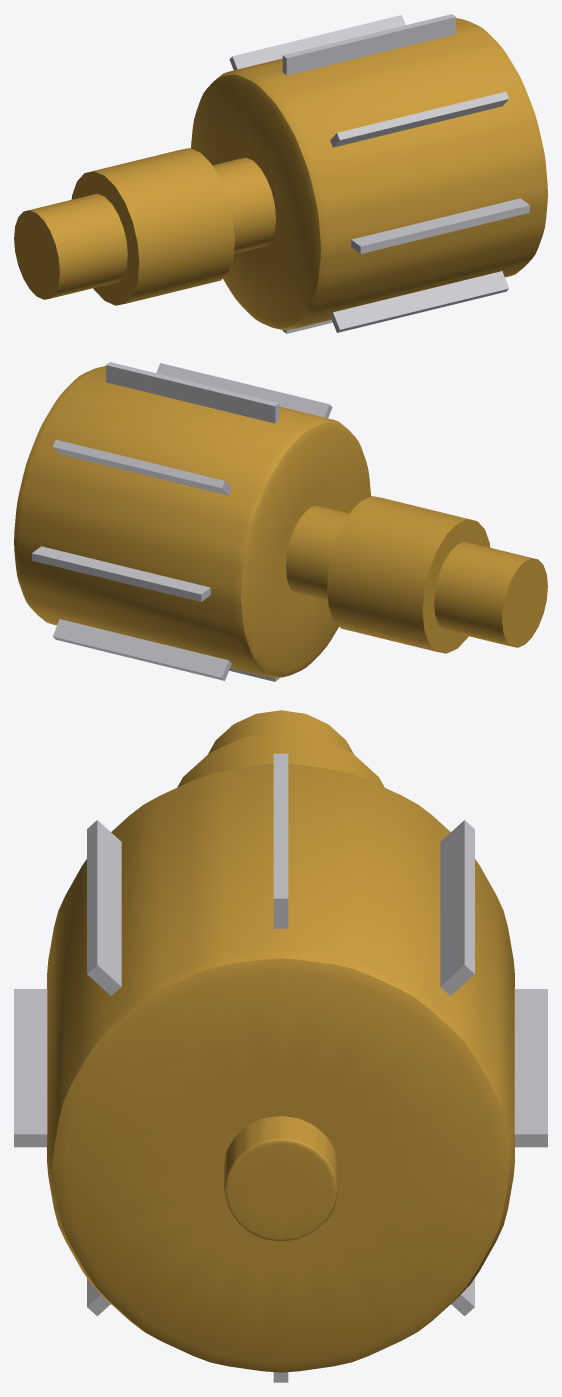
The model's file is Satelite_Cuerpo.obj.
3 views of the same model, one above another, from view 1: azimuth 30°, elevation 25°; view 2: azimuth 150°, elevation 25°; view 3: azimuth 270°, elevation 25° (orthographic). The views are drawn at different scales.
Visible parts, largest first — view 1: Satelite_Cuerpo; view 2: Satelite_Cuerpo; view 3: Satelite_Cuerpo.
Part boxes in pixels (x1,y1,x2,y2): Satelite_Cuerpo: (14, 14, 547, 333); Satelite_Cuerpo: (14, 362, 547, 681); Satelite_Cuerpo: (14, 710, 547, 1382).
Size of the model in its own units: 7.46 by 4.13 by 4.13.
